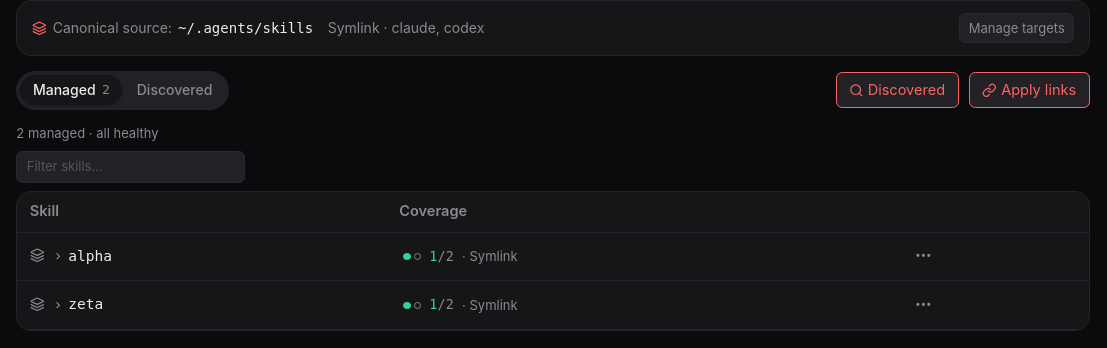
Skills view › managed tab filters rows by the search box
The width and height of the screenshot is (1107, 348).
Check: the text "alpha" is shown, box 53,244 -> 112,266
In the field with placeholder "Filter skills…": [131, 167] box 16,151 -> 245,182, type "zet"
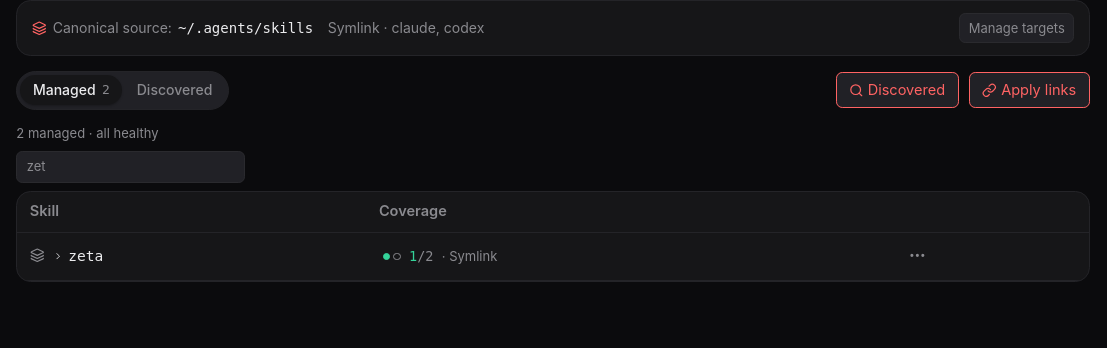
Check: the text "zeta" is shown, box 53,244 -> 103,266
Check: the text "alpha" is gone
